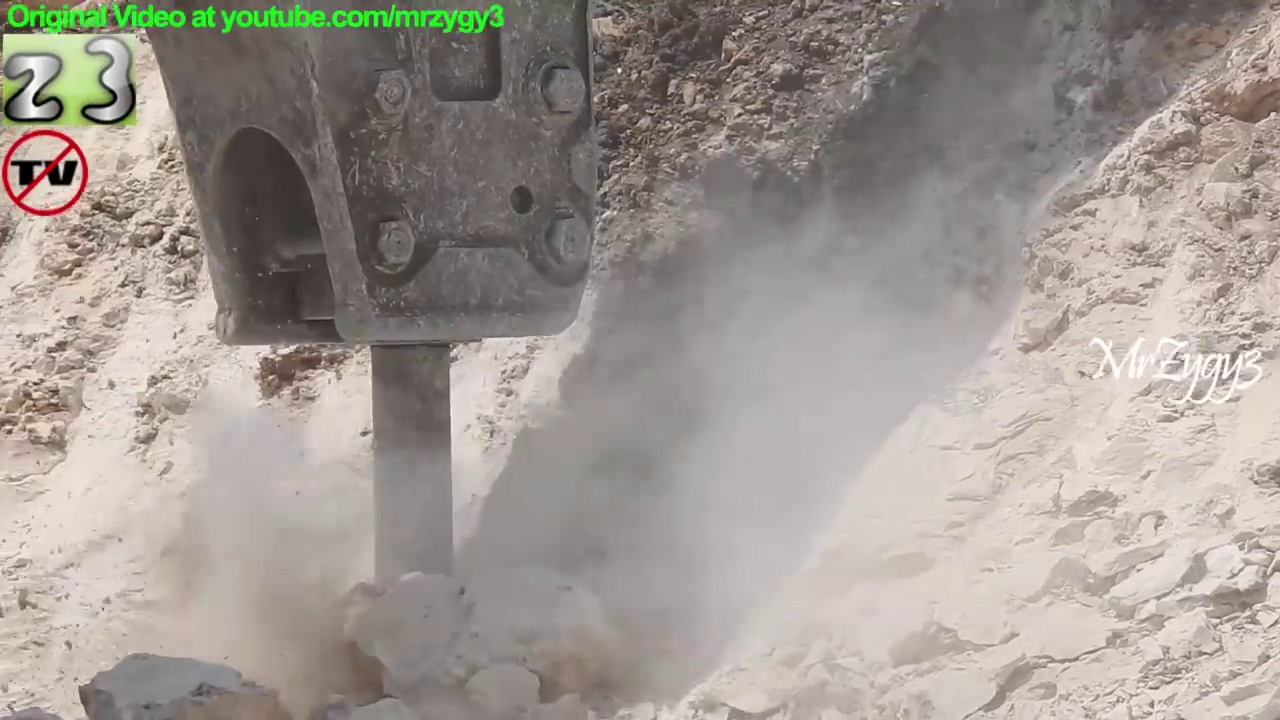excavator: (133, 1, 610, 681)
